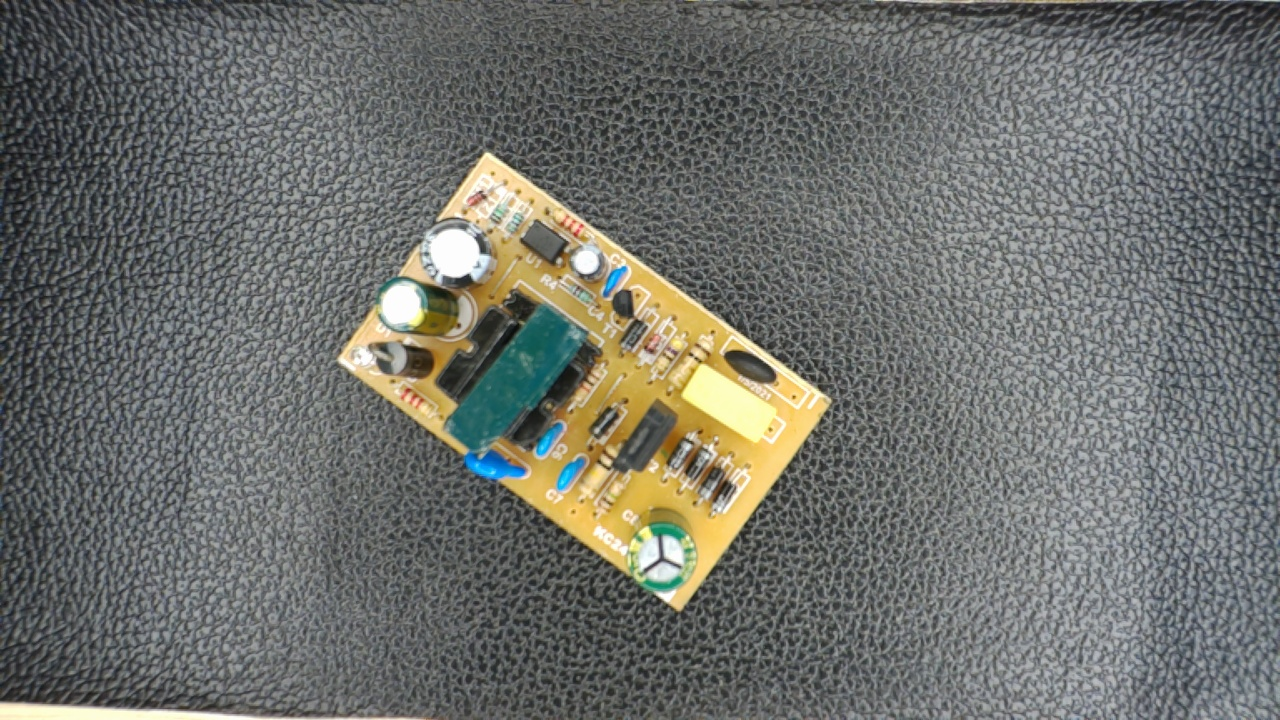fuse: (720, 345, 782, 389)
hv_capacitor: (624, 512, 699, 594)
mov: (458, 443, 530, 483)
optocoupler: (512, 215, 573, 272)
